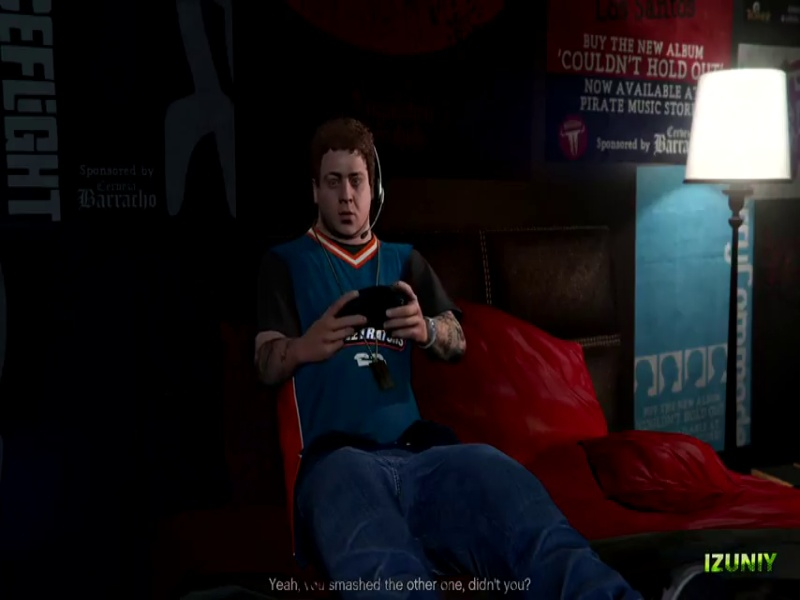human: (246, 130, 580, 600)
